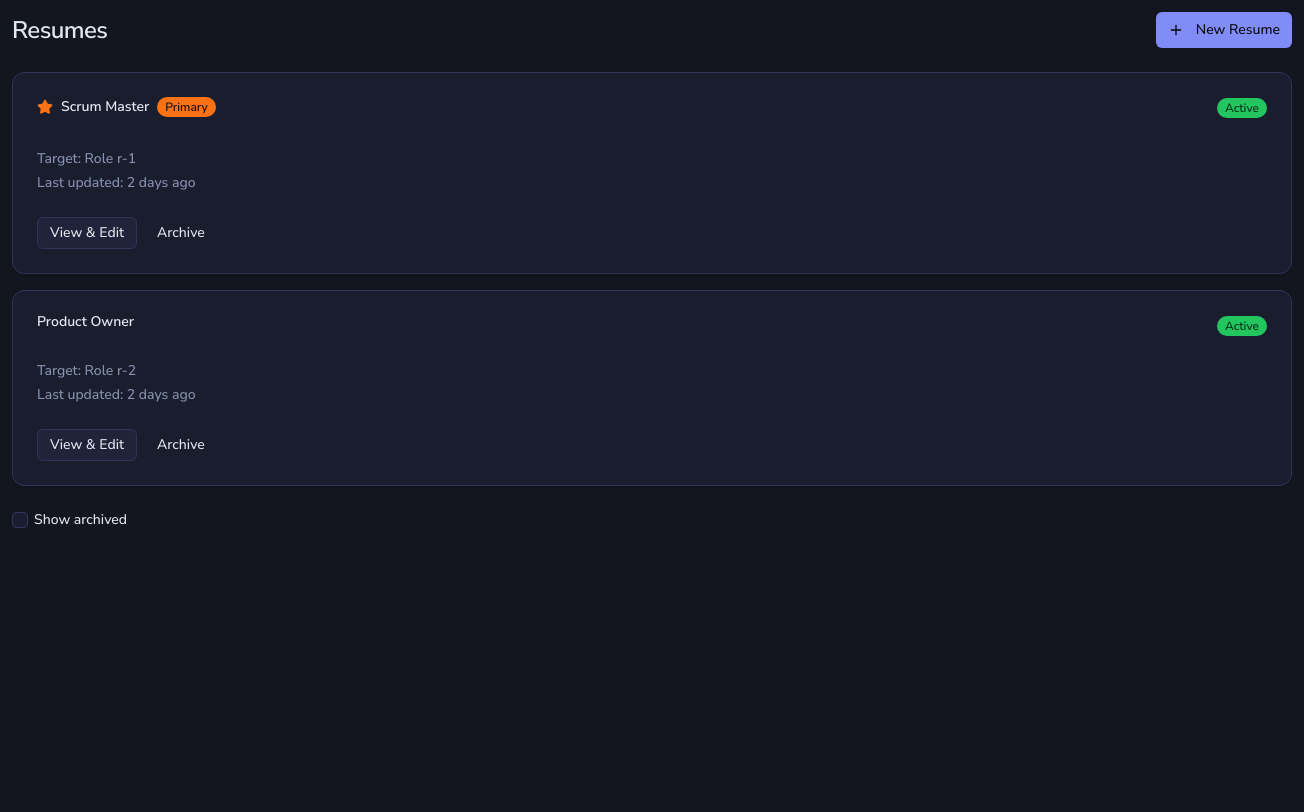
it: ResumeList › show archived toggle › shows archived resumes when toggle is checked
Expected: the text "Scrum Master" is shown, [61,100,149,114]
Click the checkbox named "Show archived". click: (20, 520)
box: [12,512,28,528]
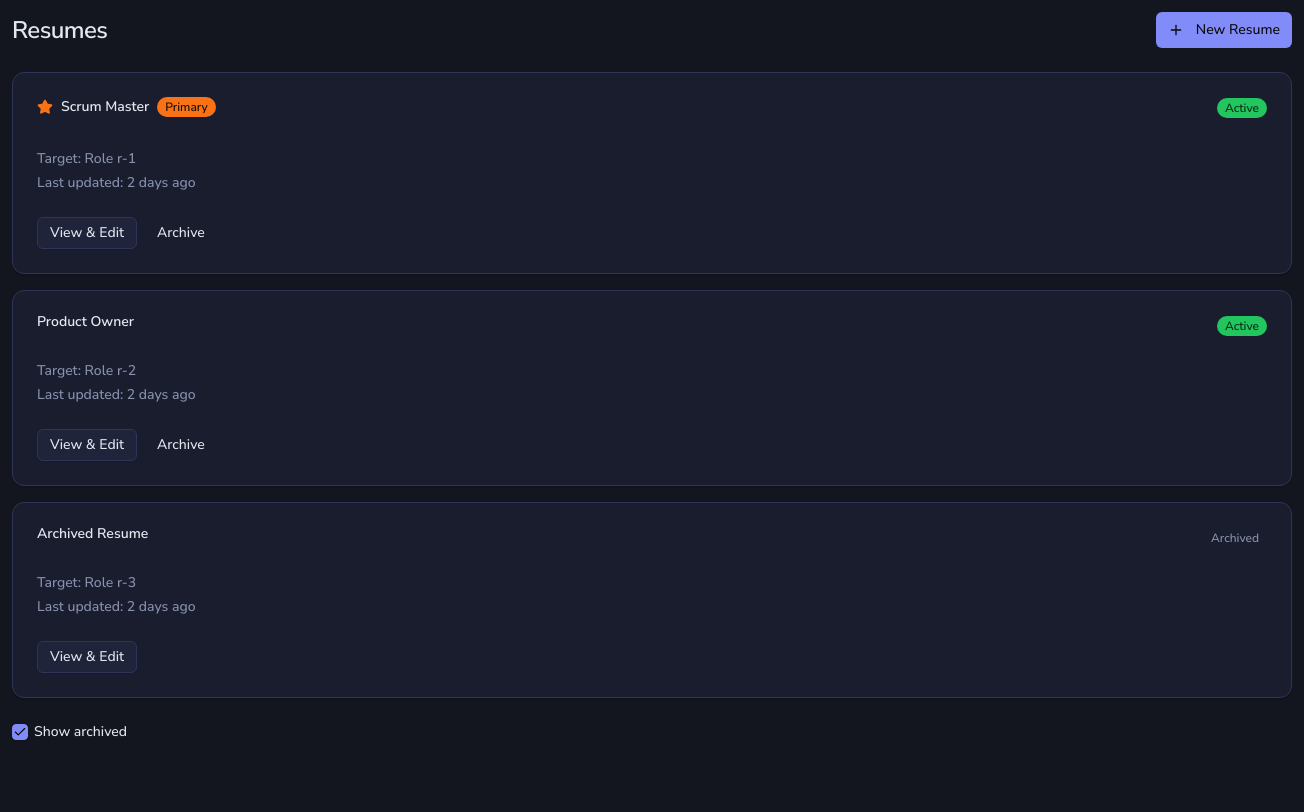
Expected: the text "Archived Resume" is shown, [37,527,148,541]
